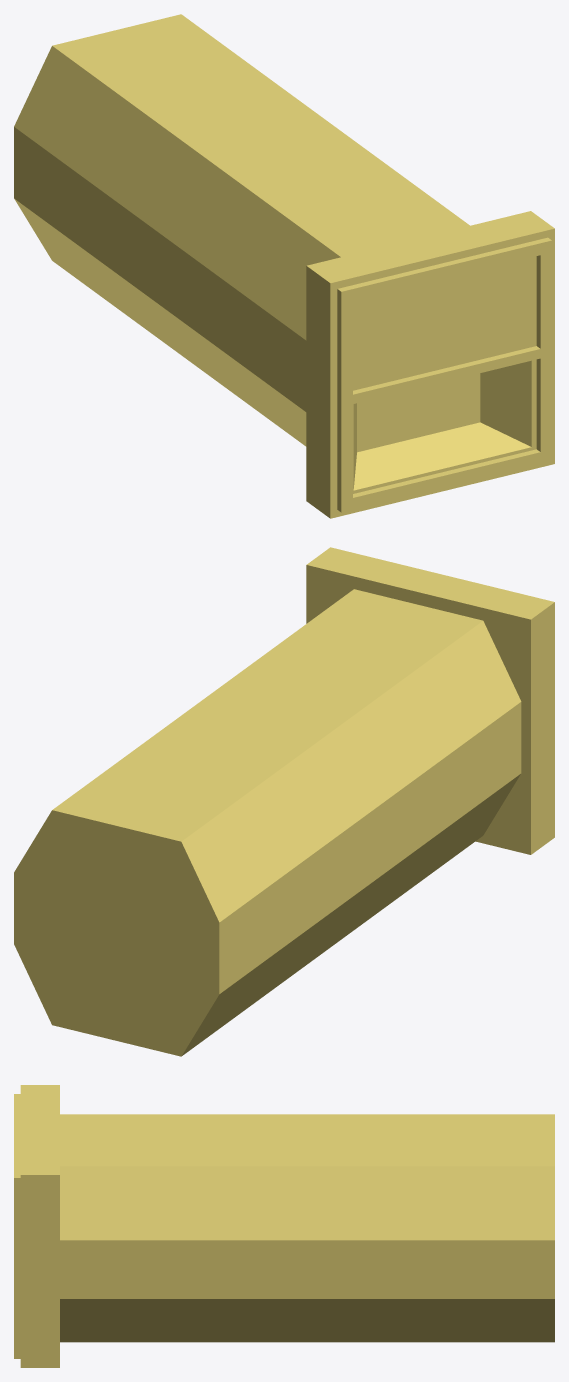
File: compactor.fbx
The picture shows the model from 3 angles, top to bottom: view 1: azimuth 30°, elevation 25°; view 2: azimuth 150°, elevation 25°; view 3: azimuth 270°, elevation 25°; orthographic projection. The views are drawn at different scales.
Parts seen in each view (by area): view 1: Cube; view 2: Cube; view 3: Cube.
Part boxes in pixels (box(x1,y1,x2,y2)): Cube: box(14, 14, 554, 518); Cube: box(14, 547, 554, 1056); Cube: box(14, 1085, 554, 1367).
Bounding box in the file's own units: 219 × 219 × 556.
